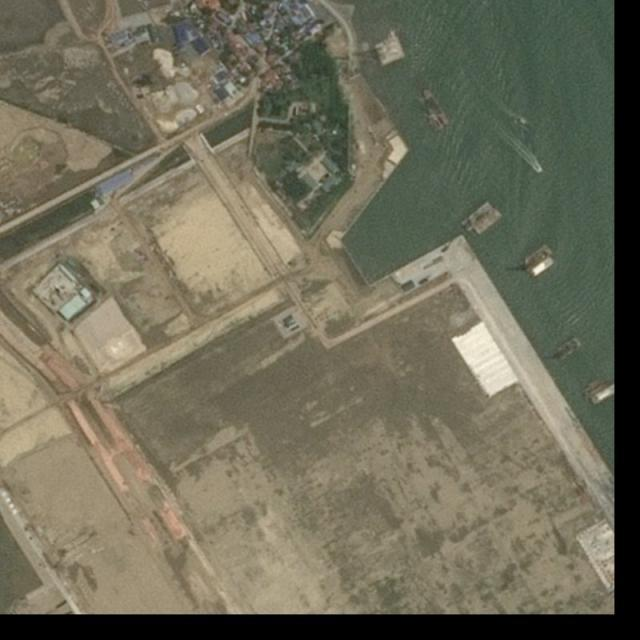ship: (422, 88, 450, 132), (516, 114, 528, 127), (534, 164, 543, 174)
